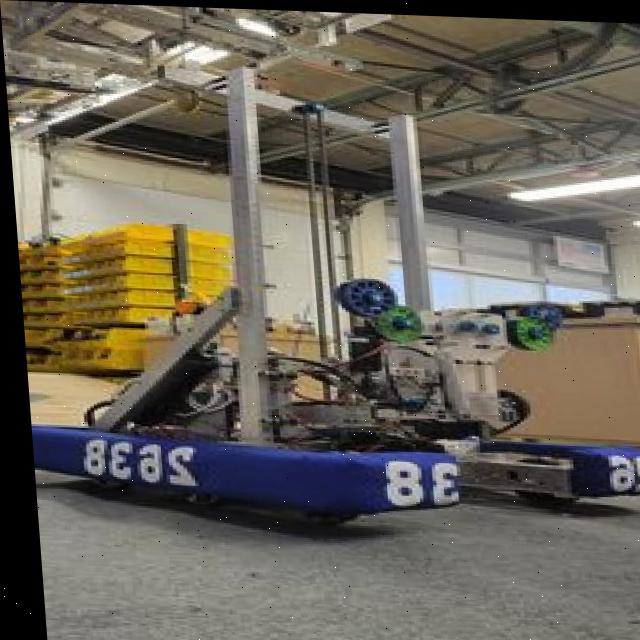robot: (3, 49, 640, 539)
